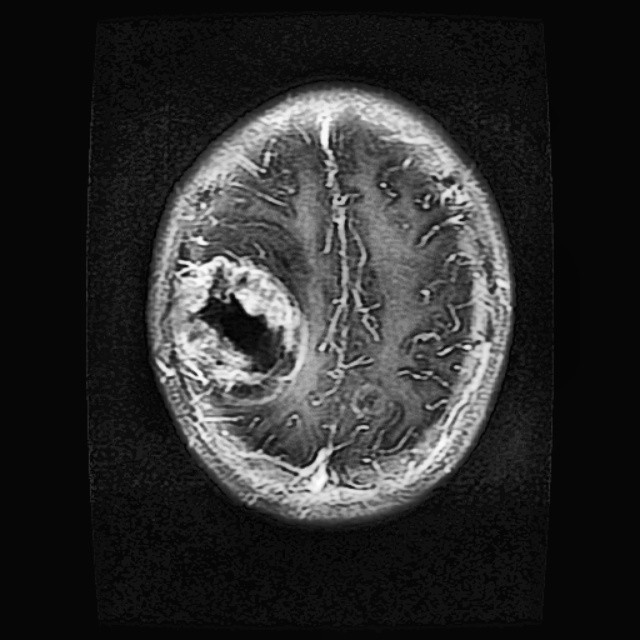Meningioma: (175, 268, 304, 379)
